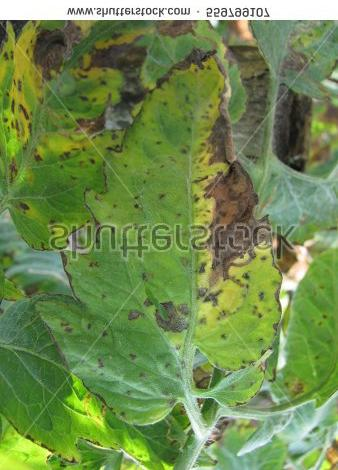Tomato leaf bacterial spot: (34, 36, 282, 440), (3, 26, 152, 252)
